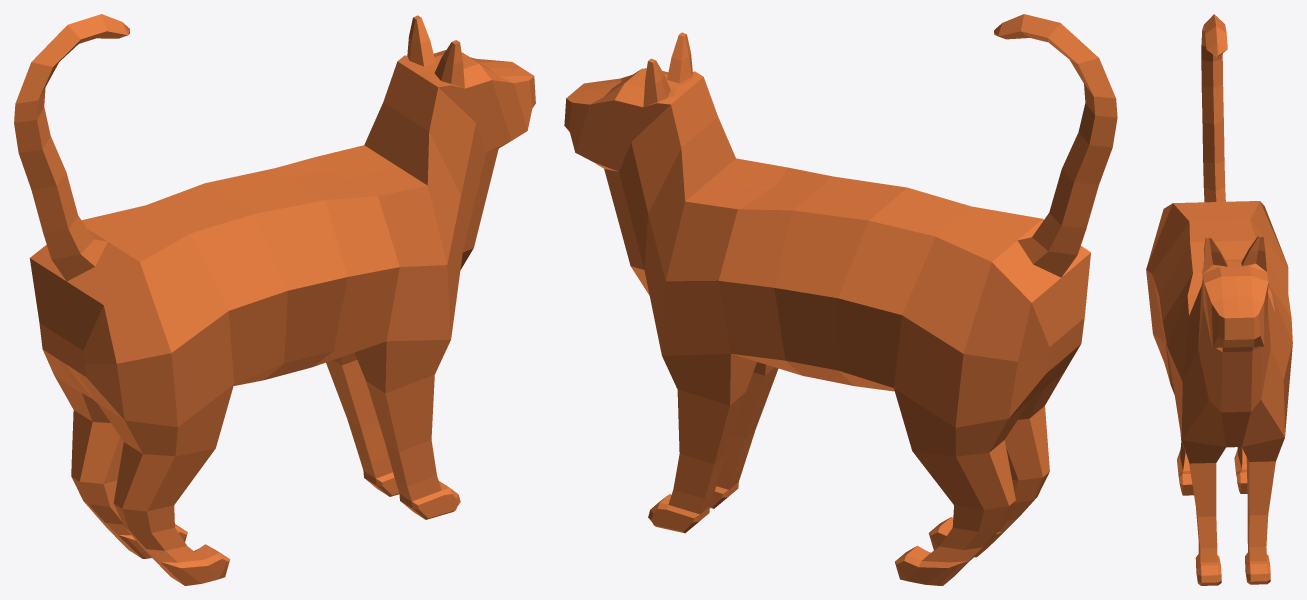
Rendered from Cat.fbx.
The picture shows the model from 3 angles, left to right: view 1: azimuth 30°, elevation 25°; view 2: azimuth 150°, elevation 25°; view 3: azimuth 270°, elevation 25°; orthographic projection. The views are drawn at different scales.
Visible parts, largest first — view 1: Cat; view 2: Cat; view 3: Cat.
Boxes of the visible parts, box(x1,y1,x2,y2) form: Cat: box(14, 14, 535, 585); Cat: box(564, 14, 1117, 585); Cat: box(1146, 14, 1292, 585).
Bounding box in the file's own units: 83.85 × 86.72 × 26.58.
